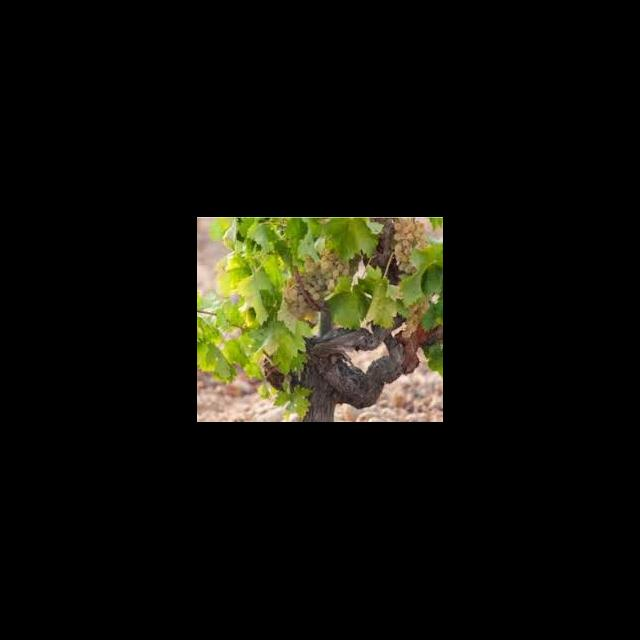grape: (283, 248, 351, 320)
